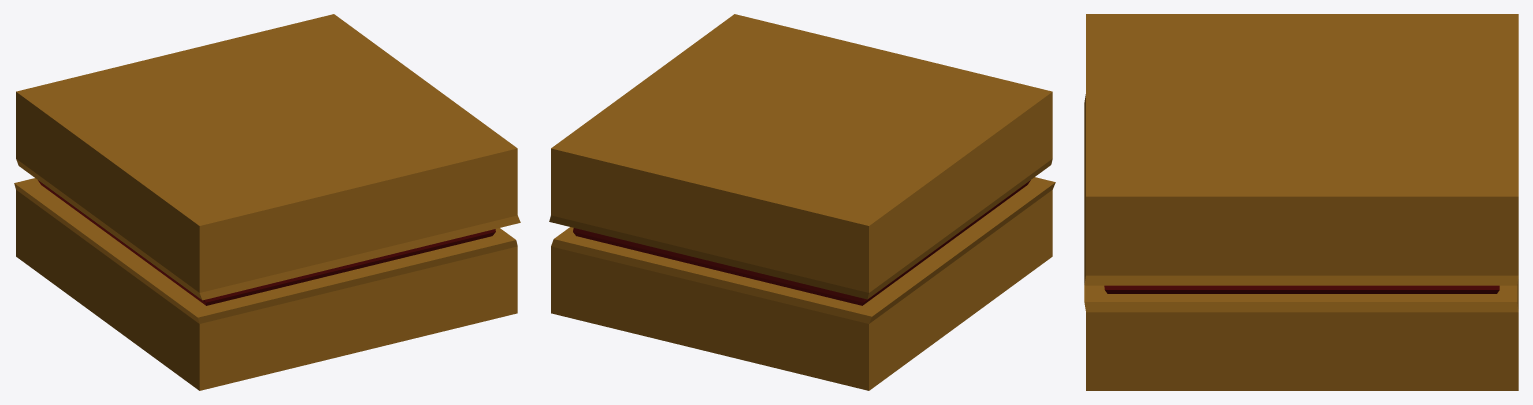
The model's file is burger.glb.
3 renders of one model, left to right at view 1: azimuth 30°, elevation 25°; view 2: azimuth 150°, elevation 25°; view 3: azimuth 270°, elevation 25°, orthographic. The views are drawn at different scales.
Visible parts, largest first — view 1: Cube.002, Cube, Cube.001; view 2: Cube.002, Cube, Cube.001; view 3: Cube.002, Cube, Cube.001.
Boxes of the visible parts, x1,y1,x2,y2 form: Cube.002: (16,14,520,300); Cube: (14,178,517,390); Cube.001: (38,180,495,305); Cube.002: (549,14,1052,299); Cube: (551,177,1055,390); Cube.001: (573,180,1030,305); Cube.002: (1084,14,1518,285); Cube: (1084,276,1518,390); Cube.001: (1104,285,1499,293).
Size of the model in its own units: 12.38 by 6.04 by 12.24.
